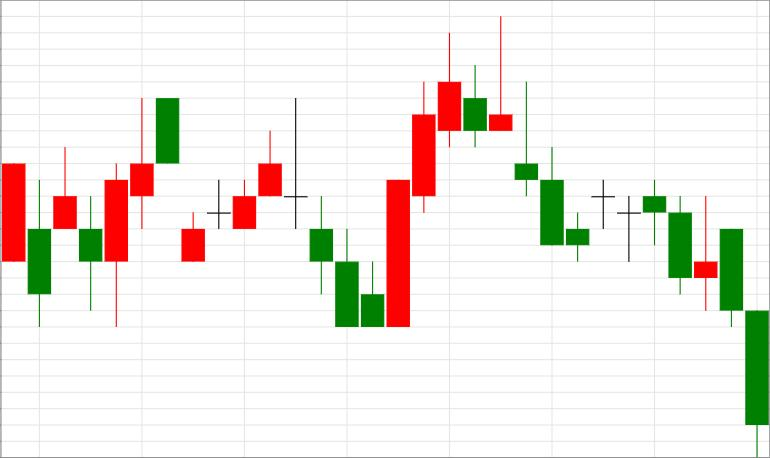bullish_engulfing_rise: (259, 99, 409, 329)
